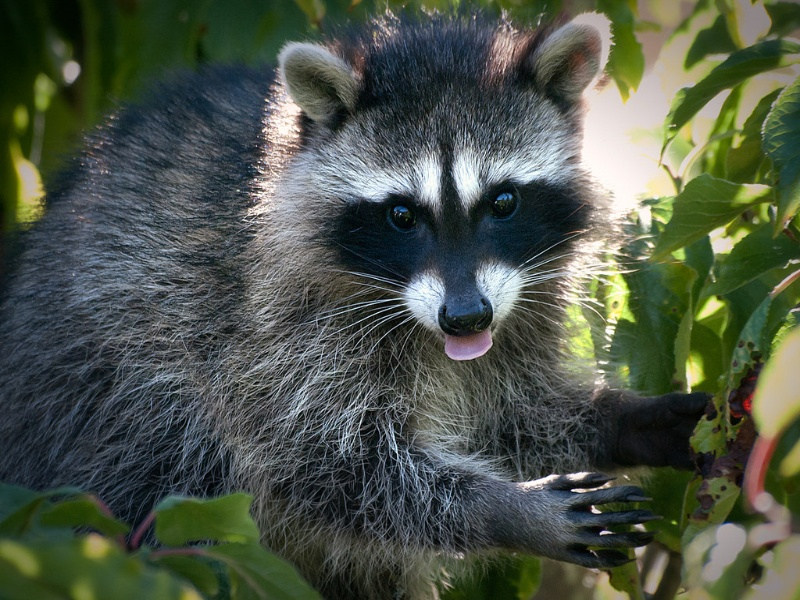raccoon: (26, 19, 734, 582)
